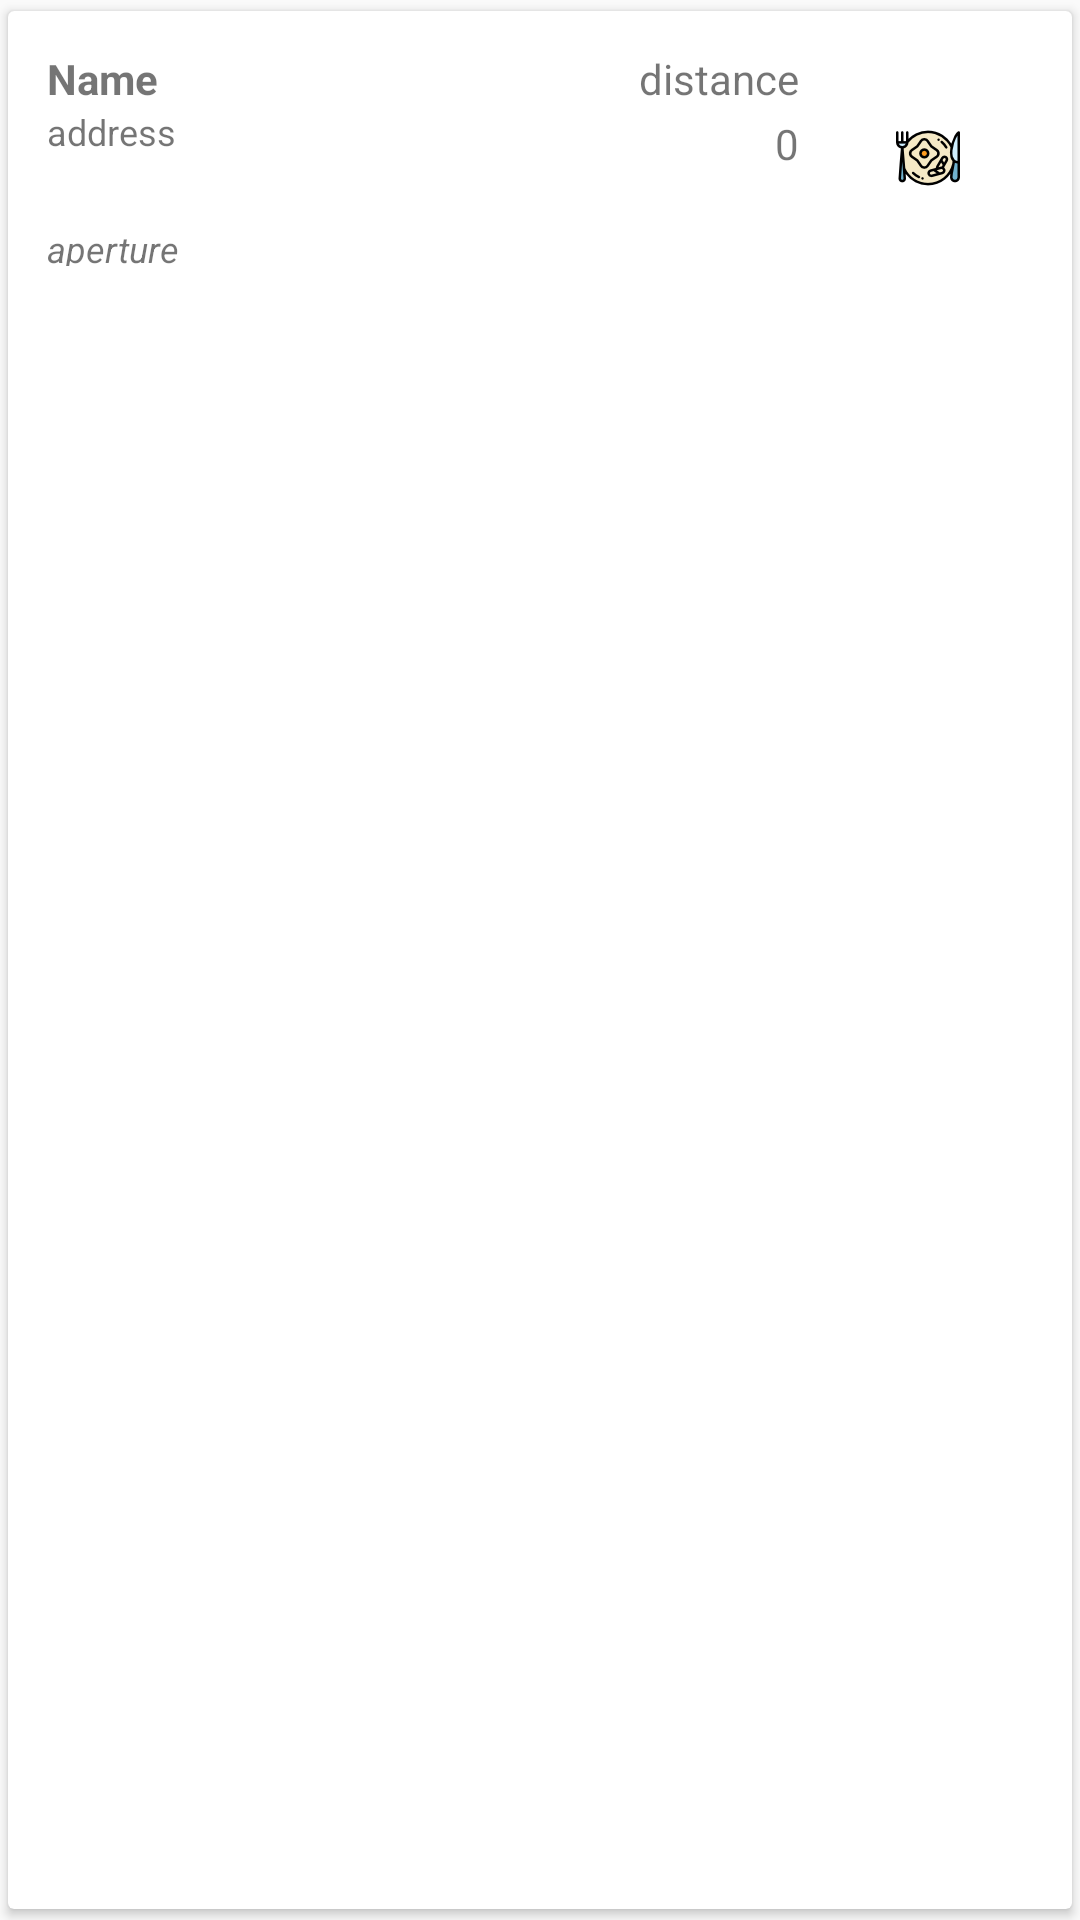

Screen size 1080×1920. Icon name, then its box in pixels as (x1, y1, x2, y2):
image of the restaurant: (896, 130, 960, 186)
